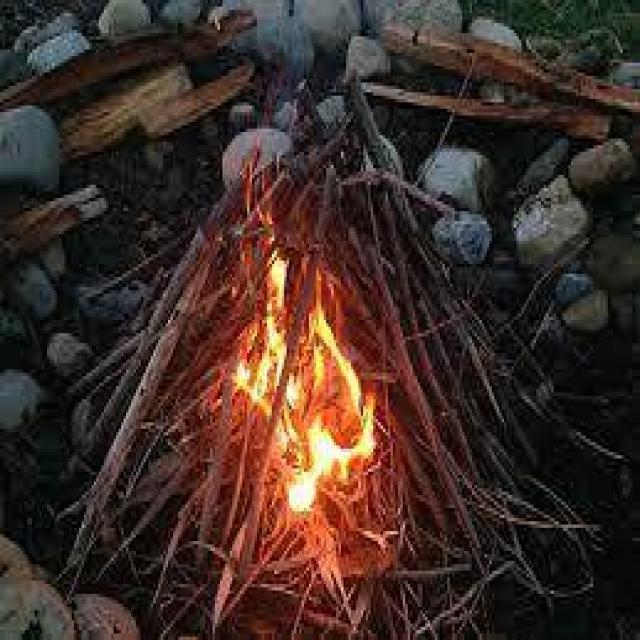Fire: (202, 190, 410, 584)
